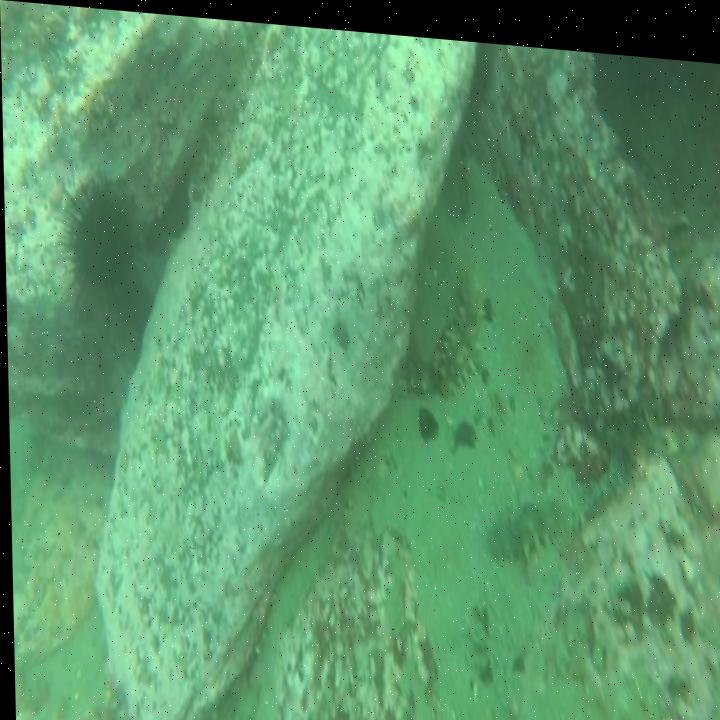echinus: (65, 166, 137, 313)
holothurian: (423, 250, 480, 396), (489, 480, 579, 557)
